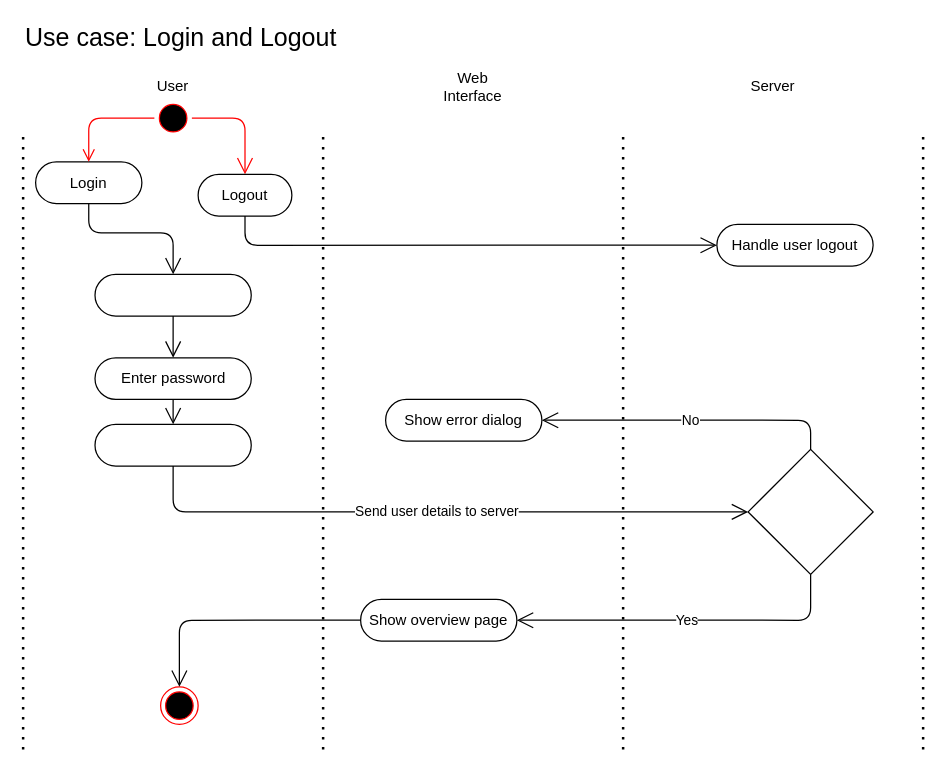
This 946x773 diagram has some shape labels left out. The shapes that lost their labels are listed below. From the top down, each one's box as (x1, y1, x2, y2) in pixels, then its label:
(94, 273, 251, 316): Enter username or email
(94, 423, 251, 466): Click login
(747, 448, 873, 574): Are the user credentials valid?
